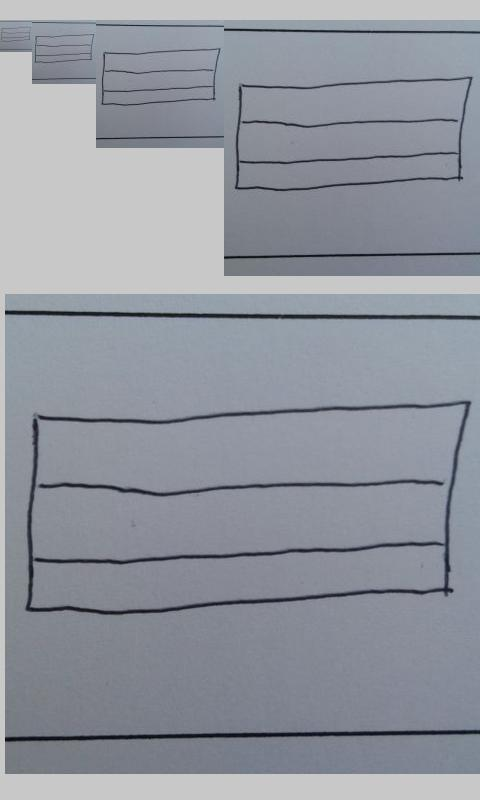list_view: (24, 399, 472, 615), (233, 76, 474, 193), (100, 47, 221, 107), (34, 33, 95, 63), (1, 26, 31, 43)
